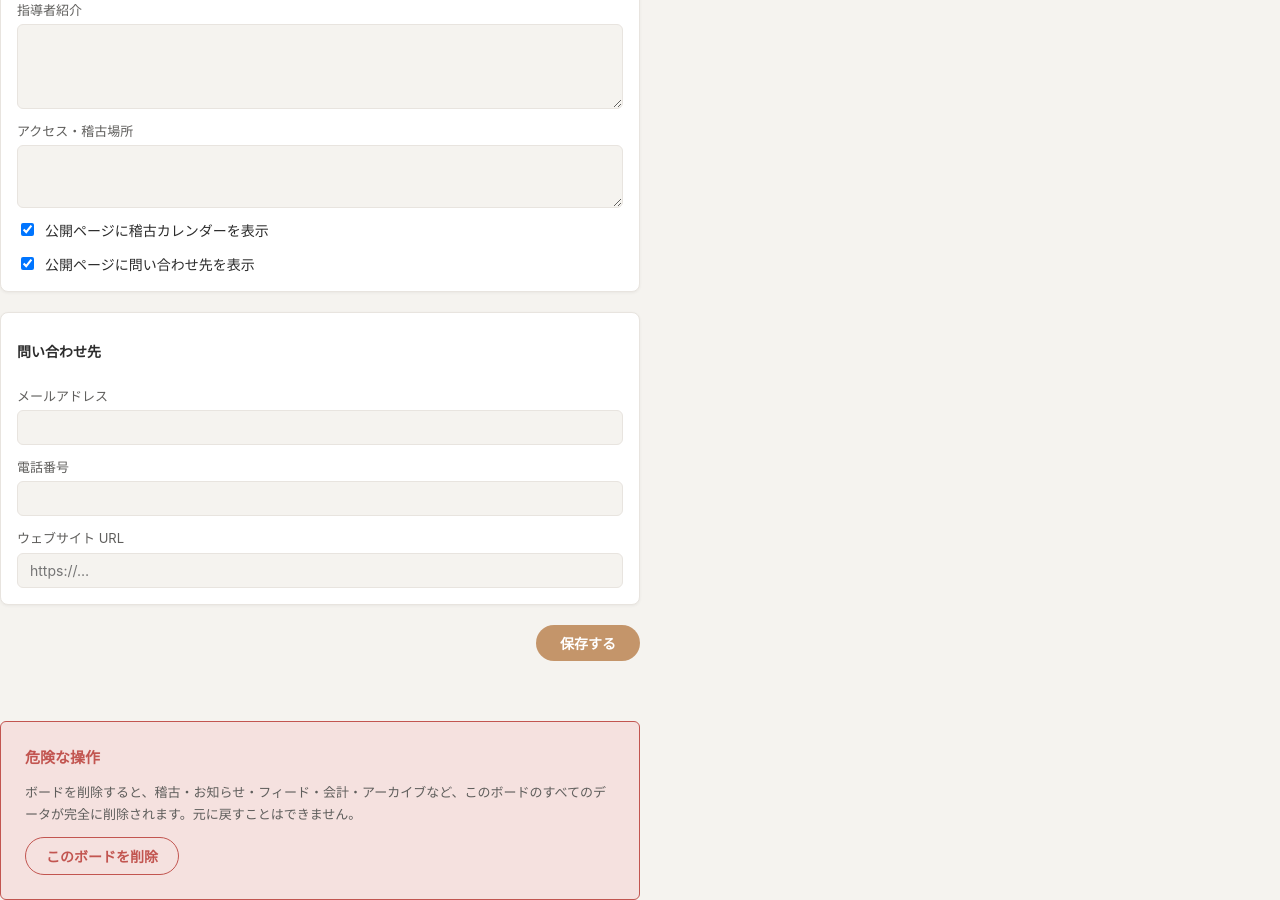
SettingsView のボード削除 › ボード名が一致するまで削除ボタンは押せない
(page scrolled)
Click the button "このボードを削除". click: click(102, 856)
box: [25,837,179,875]
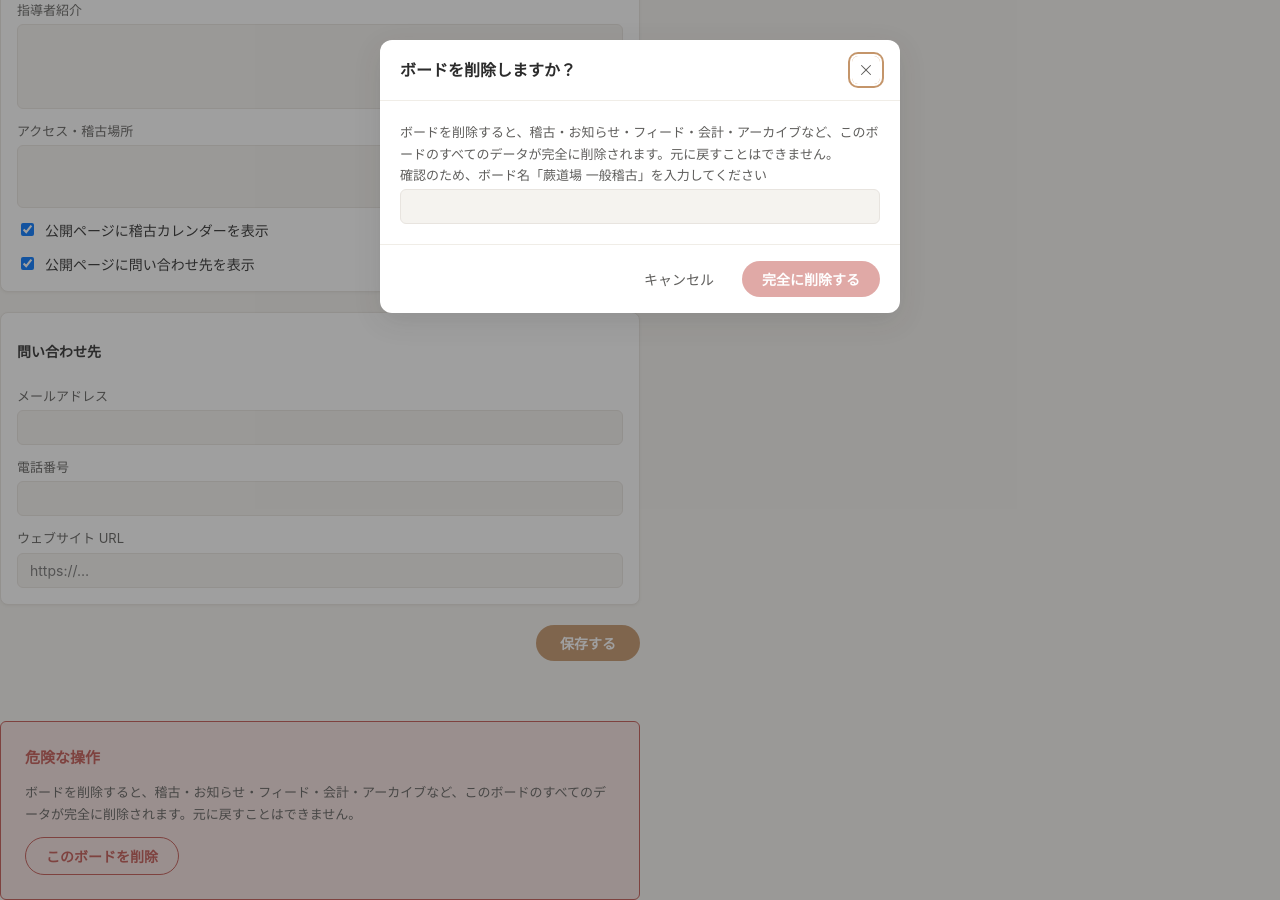
Now the button "完全に削除する" is disabled, box [742,261,880,297]
Note: 名前が違う入力では有効化されない。
Type "違う名前" into the field labelled "確認のため、ボード名「蕨道場 一般稽古」を入力してください". click: (640, 207)
box: [400,189,880,224]
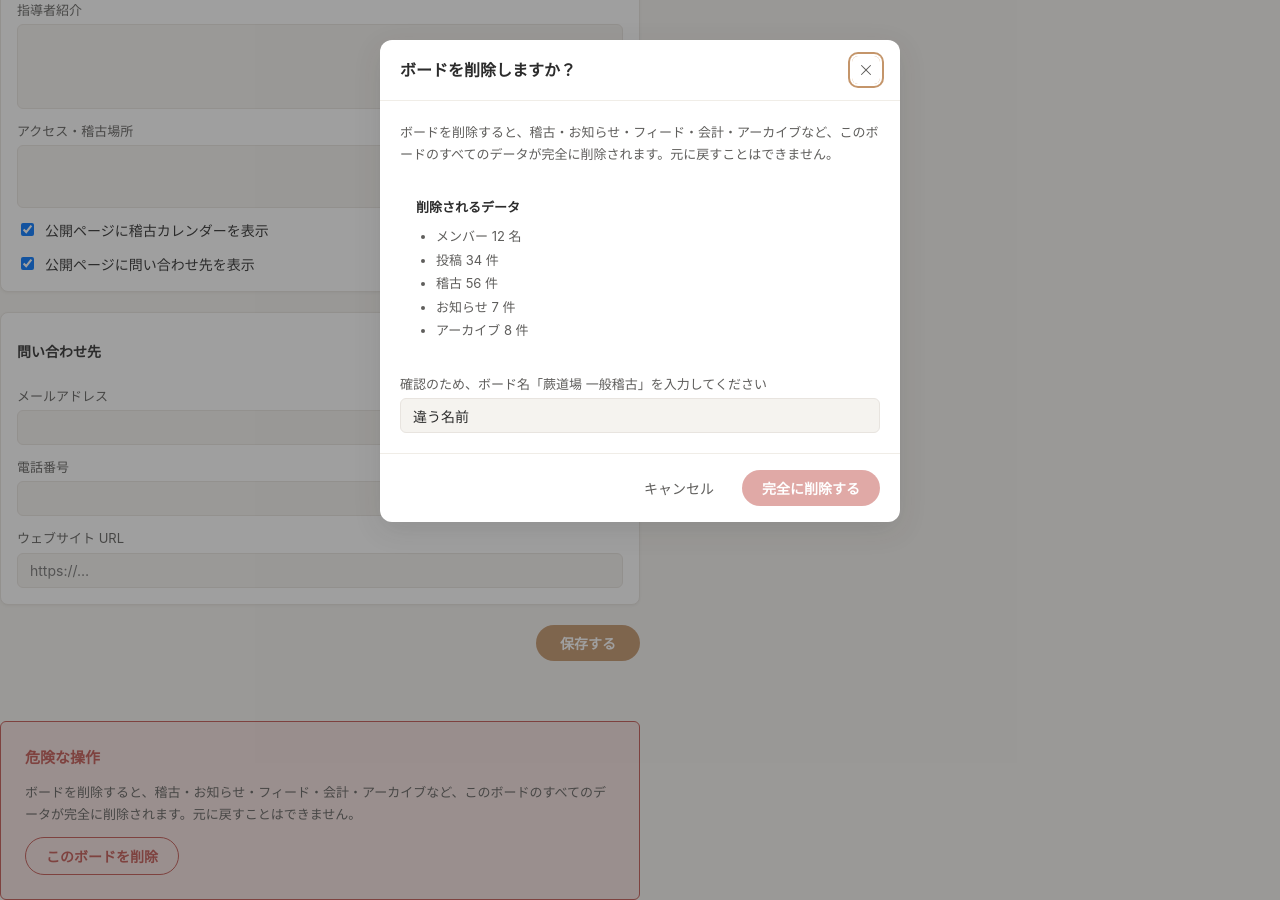
Now the button "完全に削除する" is disabled, box [742,470,880,506]
Note: 完全一致で有効化される。
Replace the text in the field labelled "確認のため、ボード名「蕨道場 一般稽古」を入力してください" with "蕨道場 一般稽古". click: (640, 416)
box: [400,398,880,433]
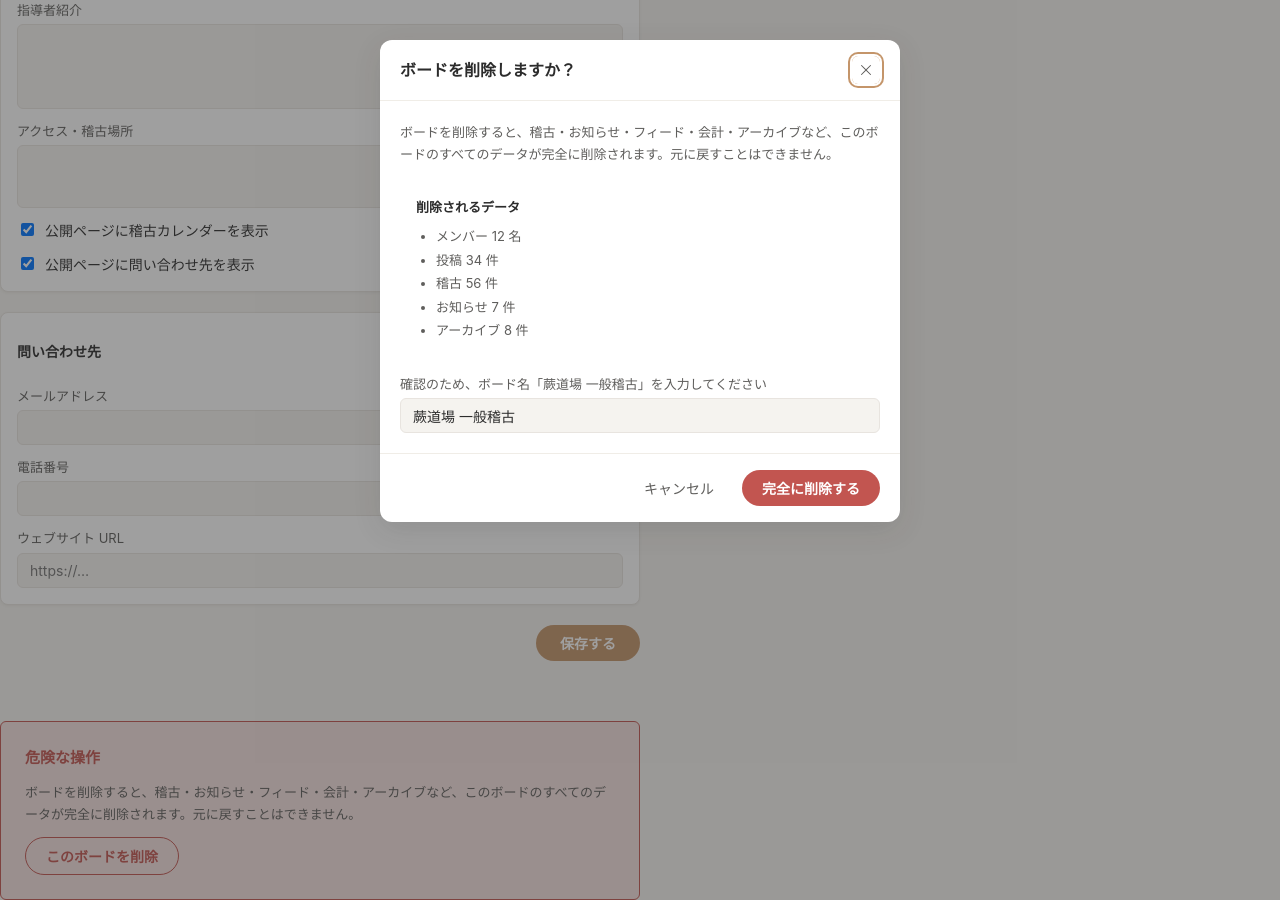
Now the button "完全に削除する" is enabled, box [742,470,880,506]
